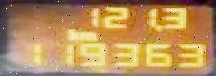-: (153, 22, 160, 32)
1: (27, 40, 42, 65), (60, 41, 73, 64), (87, 5, 100, 26), (145, 5, 156, 25)
2: (102, 5, 127, 29)
3: (176, 40, 205, 67), (111, 41, 136, 66), (160, 5, 185, 28)
6: (142, 40, 171, 66)
9: (76, 40, 105, 65)
X: (64, 26, 78, 40), (78, 30, 96, 40)
